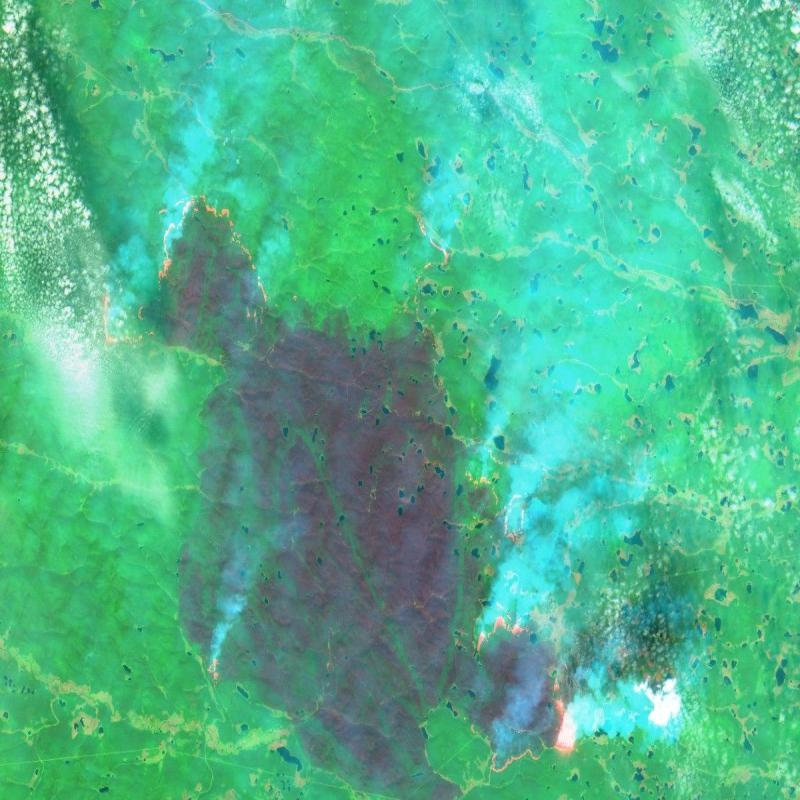fire: (94, 190, 270, 357), (473, 606, 583, 780), (461, 464, 532, 550), (412, 209, 458, 274), (197, 647, 230, 695)
